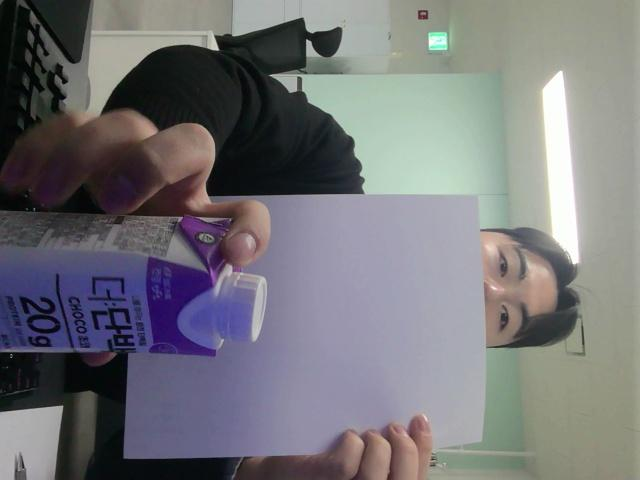milk: (0, 213, 266, 356)
